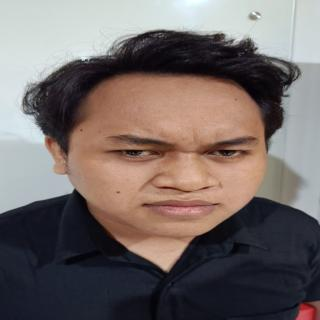Marah: (68, 63, 272, 243)
